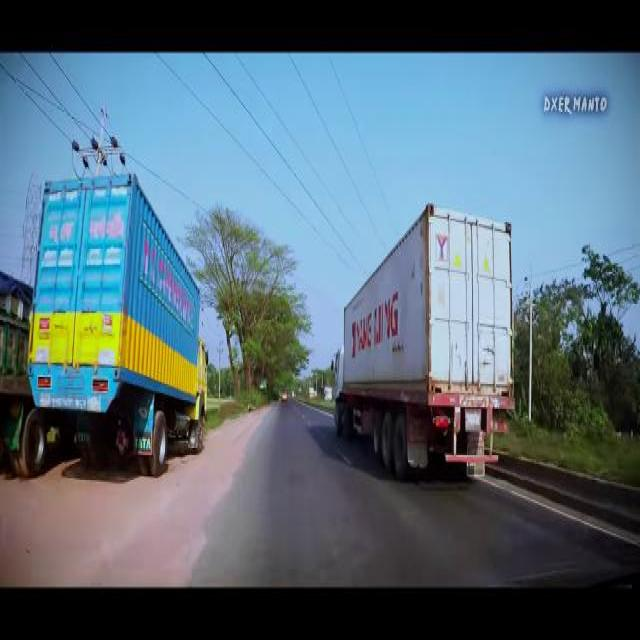truck: (24, 169, 208, 482), (328, 198, 516, 481)
